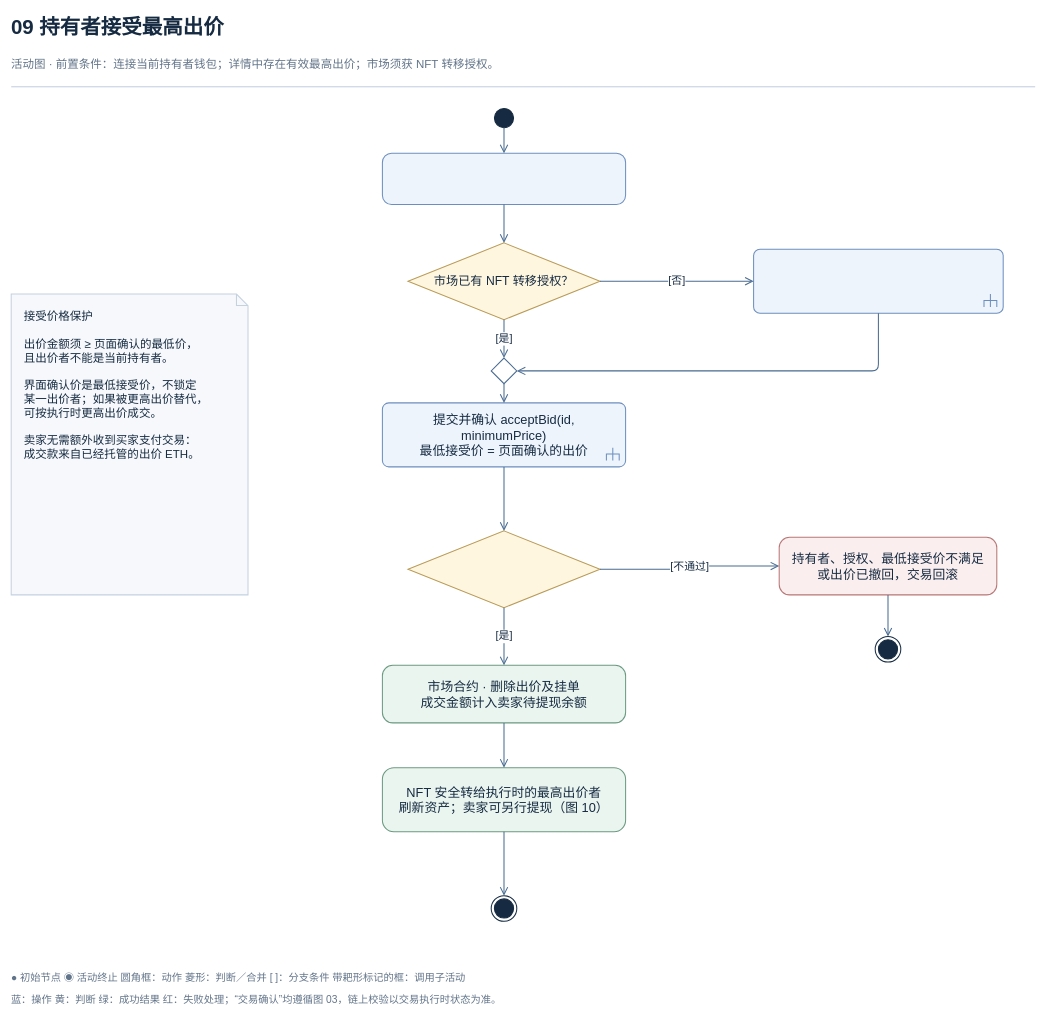
Some shapes in this 1046 by 1018 pixel diagram are drawn without their labels. The shapes that lost their labels are listed below. From the top down, each one's centre as x and y in pixels, then its label:
At (504,178): "持有者 · 核对当前最高出价 确认接受金额".
At (878,280): "提交并确认 approve(market, id) 只授权这一枚 NFT".
At (503,569): "持有者、授权与出价有效？".
